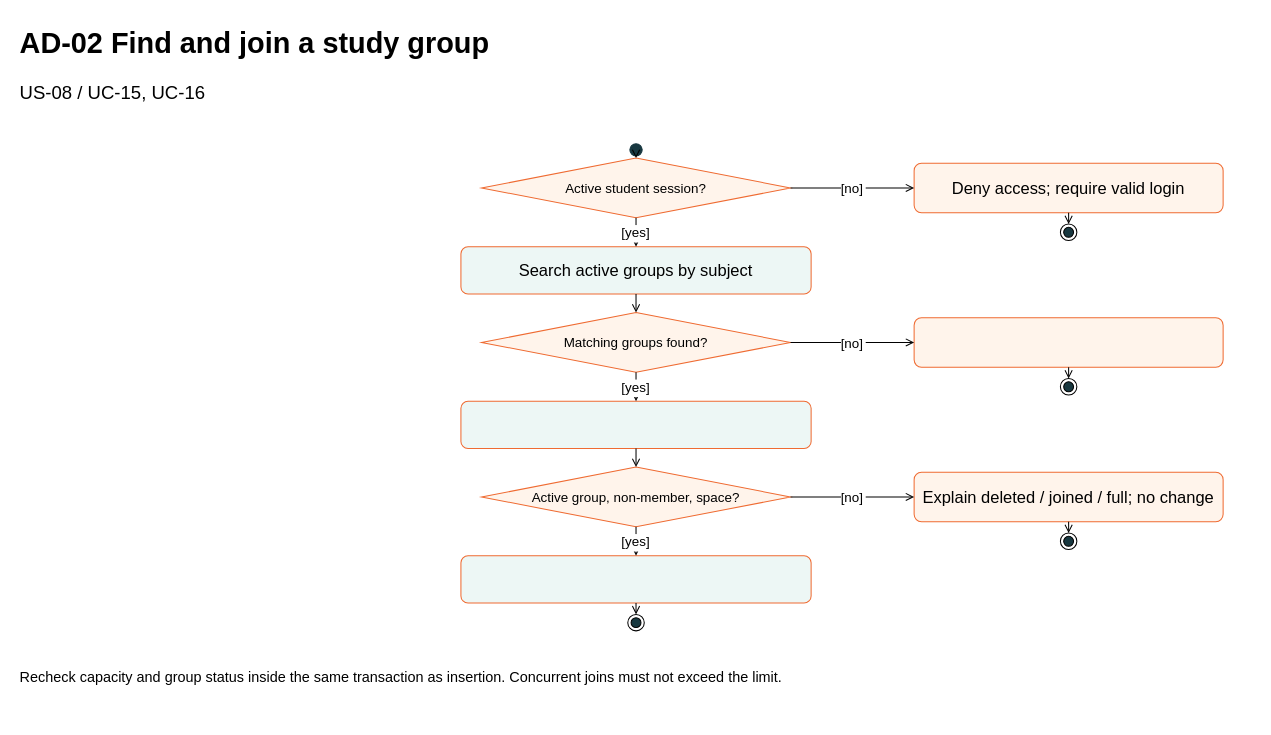
The diagram is 1271 pixels wide and 735 high, and some of its shapes have lost their labels. Here are the shapes that lost their labels. From the top down, the centre of each, then its label:
(x=1068, y=342): Show "No matching study groups found"
(x=635, y=424): Show organiser / count / limit; select Join
(x=635, y=579): Atomically add membership; update count
